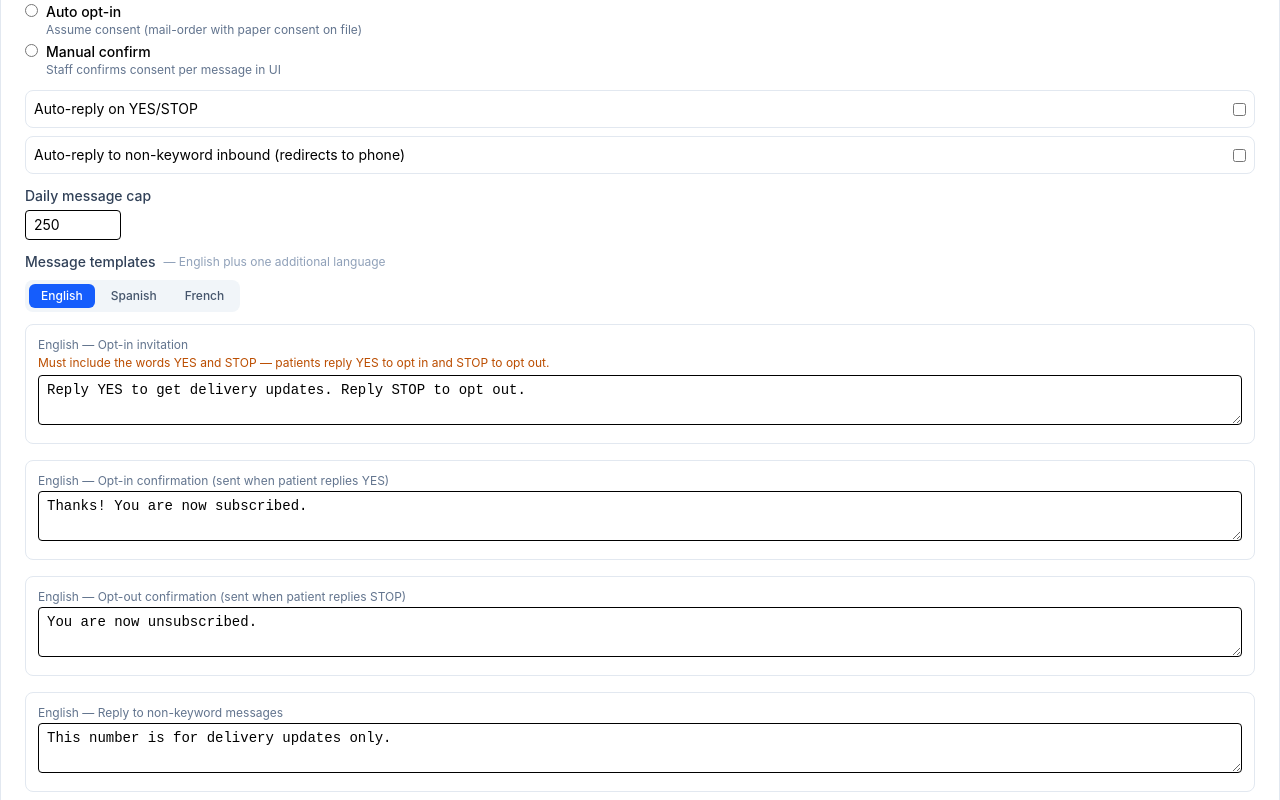
Scenario: <TextMessagingSection /> template editor › shows an inline error naming STOP when the opt-in invitation loses the word STOP
(page scrolled)
Replace the text in the text box showing "Reply YES to get delivery updates. Reply STOP to opt out." below "English — Opt-in invitation" with "Reply YES to get delivery updates." at [640, 400], box x1=38 y1=375 x2=1242 y2=425
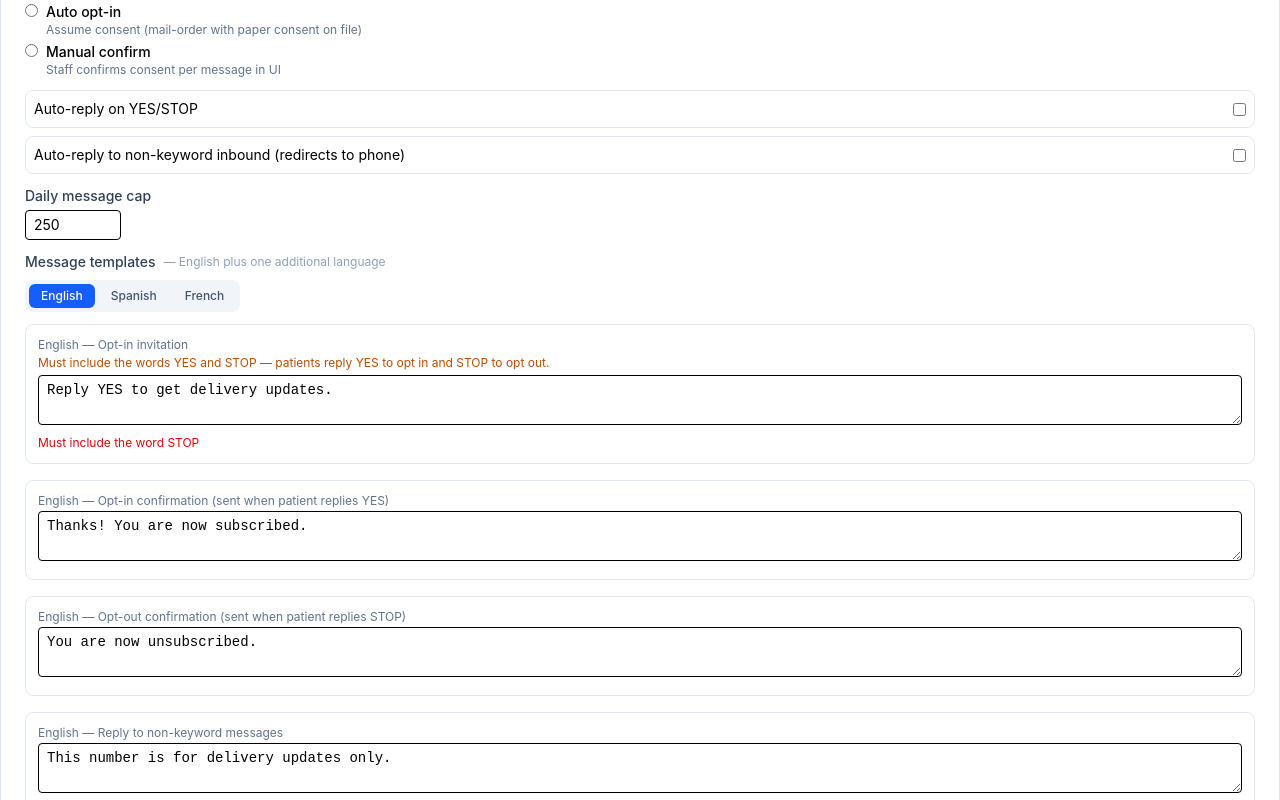
Result: the message shows "STOP" at x1=167 y1=435 x2=199 y2=450
